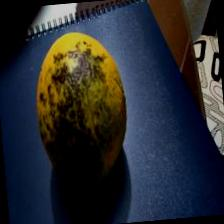Orange Rotten: (24, 18, 148, 204)
